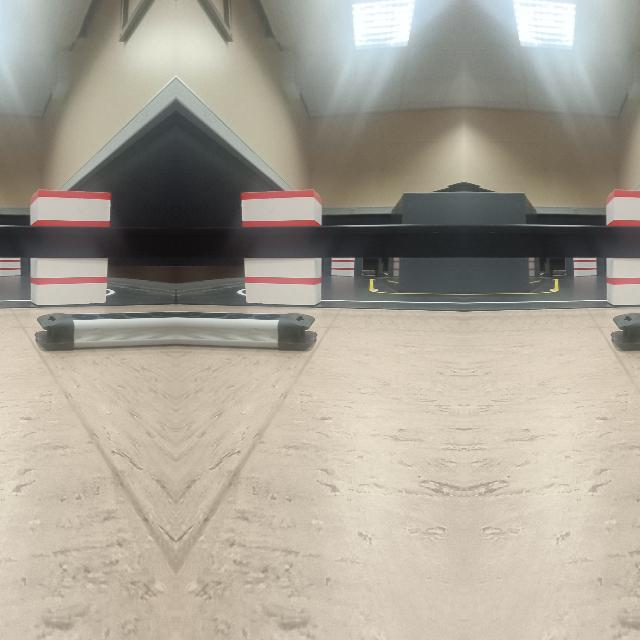obstacle: (174, 309, 316, 353), (34, 309, 176, 353), (611, 309, 640, 353)
